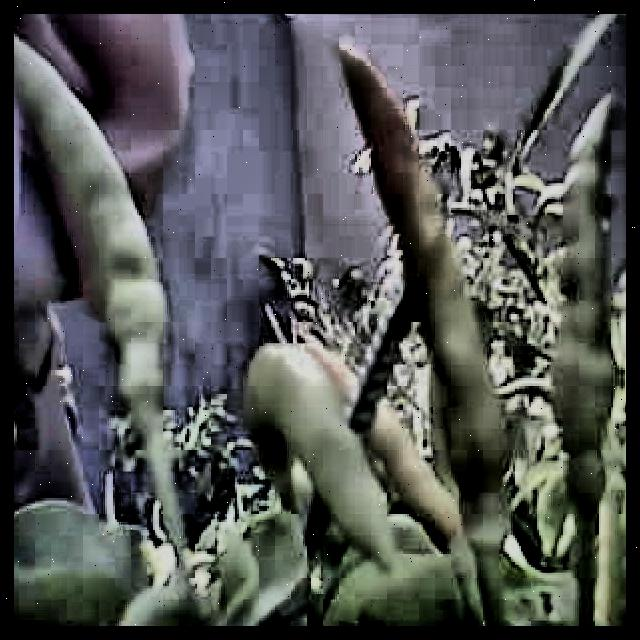Cabai: (38, 30, 222, 408), (341, 28, 470, 493), (540, 104, 626, 511)
